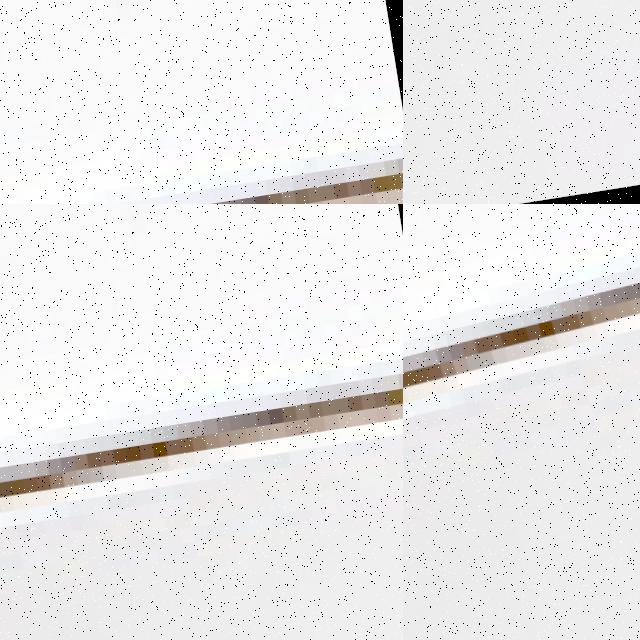drone: (403, 204, 640, 640)
